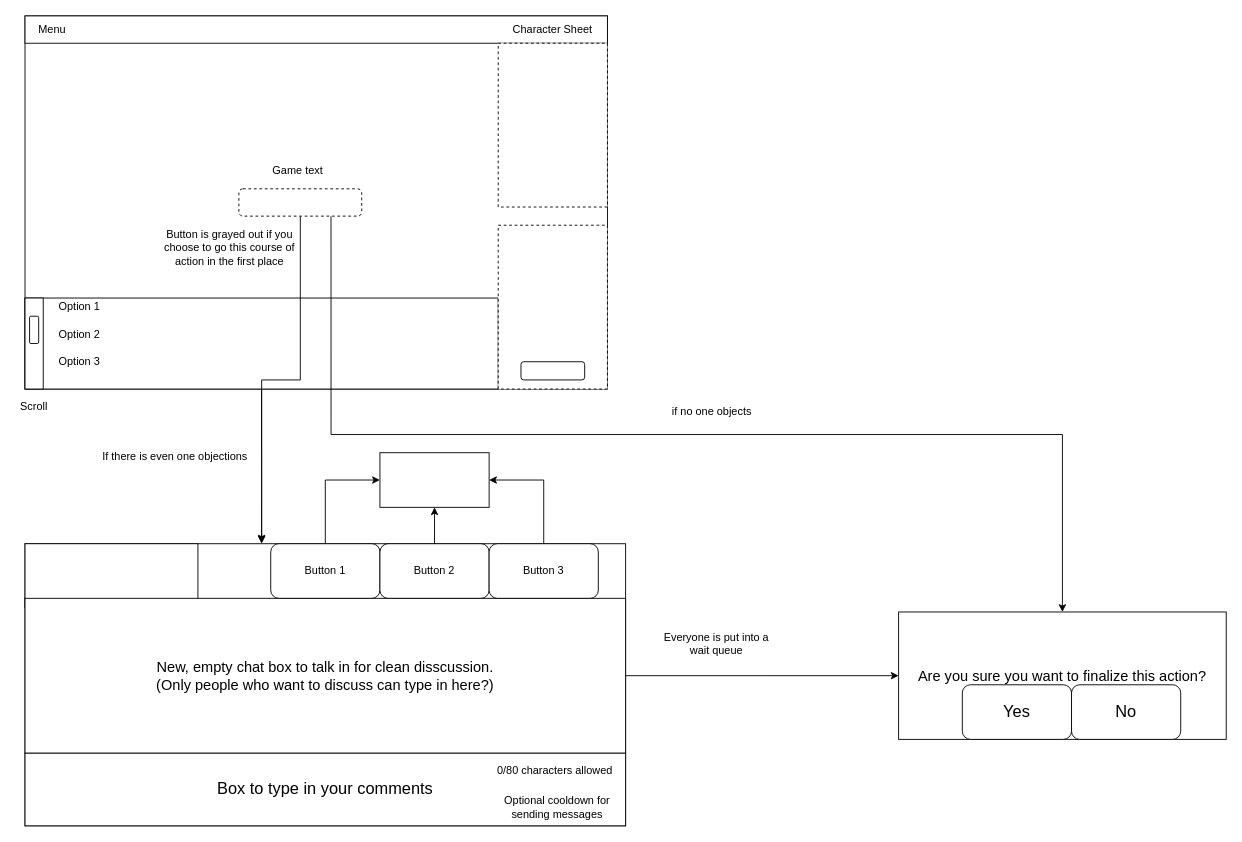
Some shapes in this 1242 by 842 pixel diagram are drawn without their labels. The shapes that lost their labels are listed below. From the top down, each one's centre as x and y in pixels, then its label:
(300,202): Dispute! (# of objections)
(552,370): Chat
(434,479): Votes are locked in
(111,575): Decision on action
